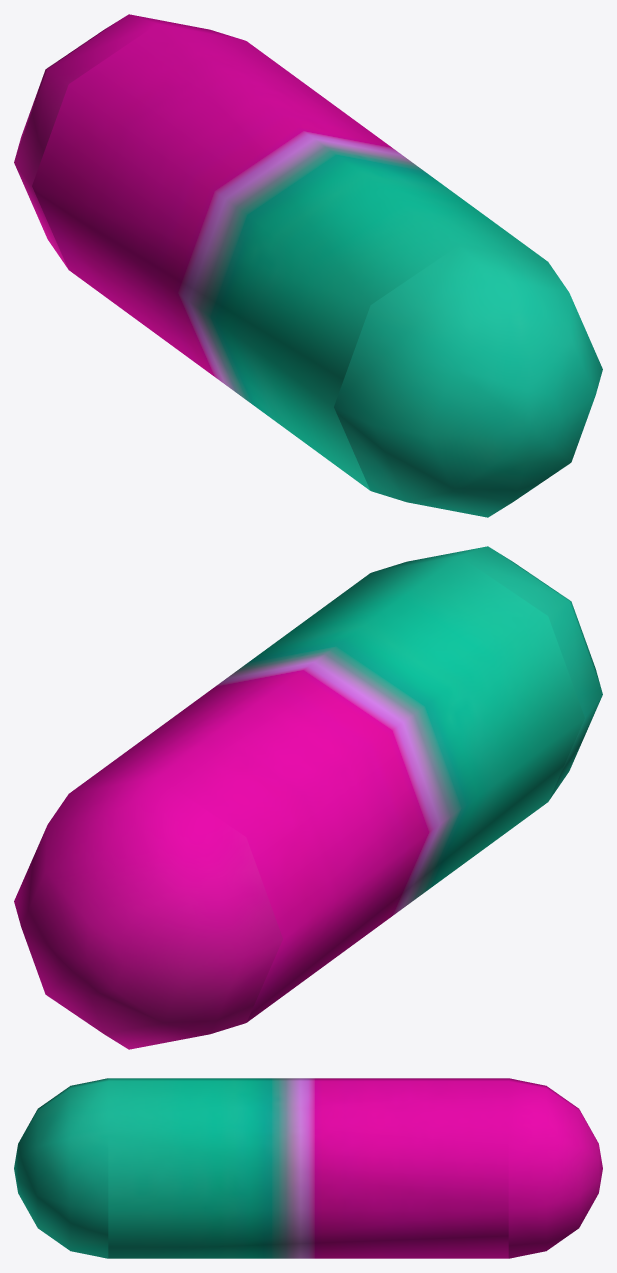
File: medicine08.fbx
The picture shows the model from 3 angles, top to bottom: view 1: azimuth 30°, elevation 25°; view 2: azimuth 150°, elevation 25°; view 3: azimuth 270°, elevation 25°; orthographic projection. The views are drawn at different scales.
Visible parts, largest first — view 1: medicine08; view 2: medicine08; view 3: medicine08.
Part boxes in pixels (bbox=[...]): medicine08: bbox=[14, 14, 602, 517]; medicine08: bbox=[14, 546, 602, 1049]; medicine08: bbox=[14, 1078, 602, 1258].
Bounding box in the file's own units: 0.6181 × 0.6181 × 1.89.
Materials: 1 (1 with a texture image).
